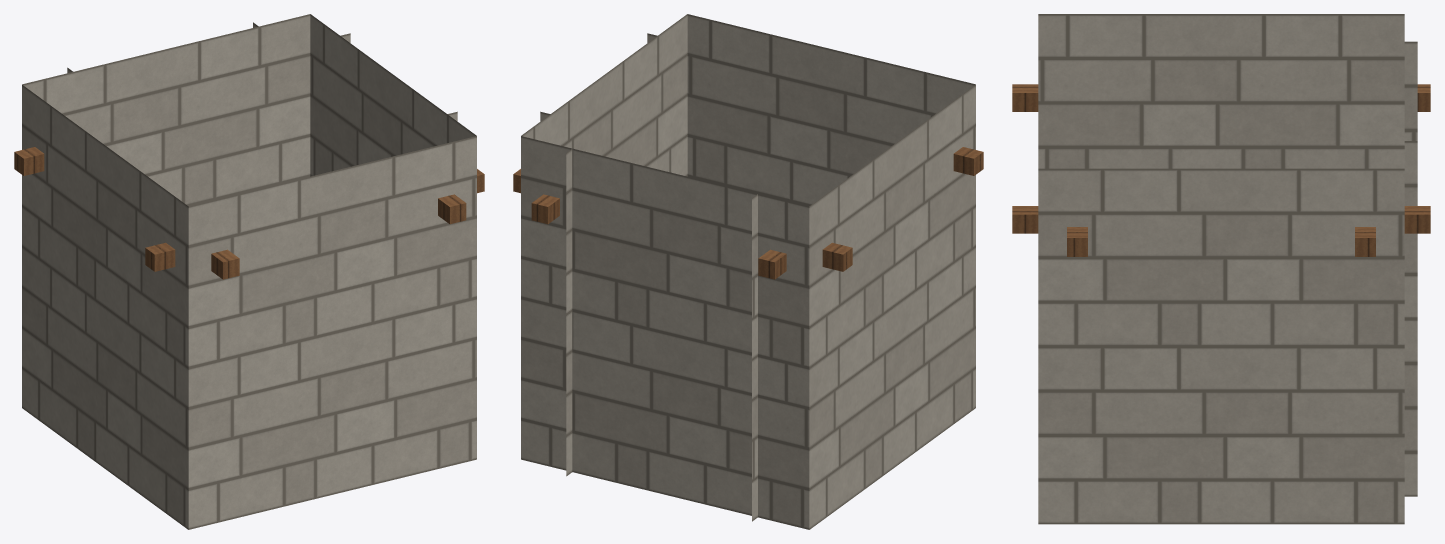
File: Tower_Mid_Corner.fbx
The picture shows the model from 3 angles, left to right: view 1: azimuth 30°, elevation 25°; view 2: azimuth 150°, elevation 25°; view 3: azimuth 270°, elevation 25°; orthographic projection. The views are drawn at different scales.
Visible parts, largest first — view 1: Tower_Mid_Corner; view 2: Tower_Mid_Corner; view 3: Tower_Mid_Corner.
Boxes of the visible parts, left/top/right/bottom form: Tower_Mid_Corner: left=14, top=14, right=484, bottom=529; Tower_Mid_Corner: left=513, top=14, right=983, bottom=529; Tower_Mid_Corner: left=1012, top=14, right=1430, bottom=524.
Bounding box in the file's own units: 3.2 × 3 × 3.2.
2 materials, 2 textured.
